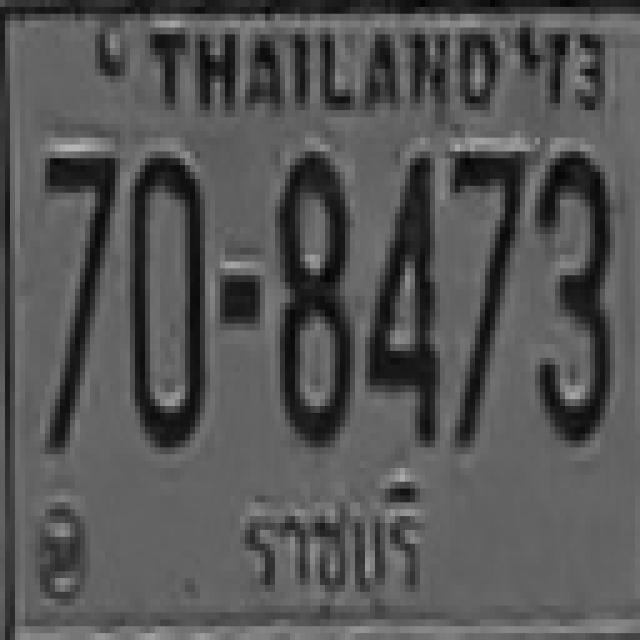0: (125, 152, 200, 440)
3: (532, 144, 608, 440)
4: (365, 144, 435, 440)
7: (448, 144, 522, 440), (40, 151, 115, 427), (40, 151, 115, 344), (40, 152, 115, 324)
8: (275, 144, 345, 440)
Ratchaburi: (237, 472, 432, 608)
